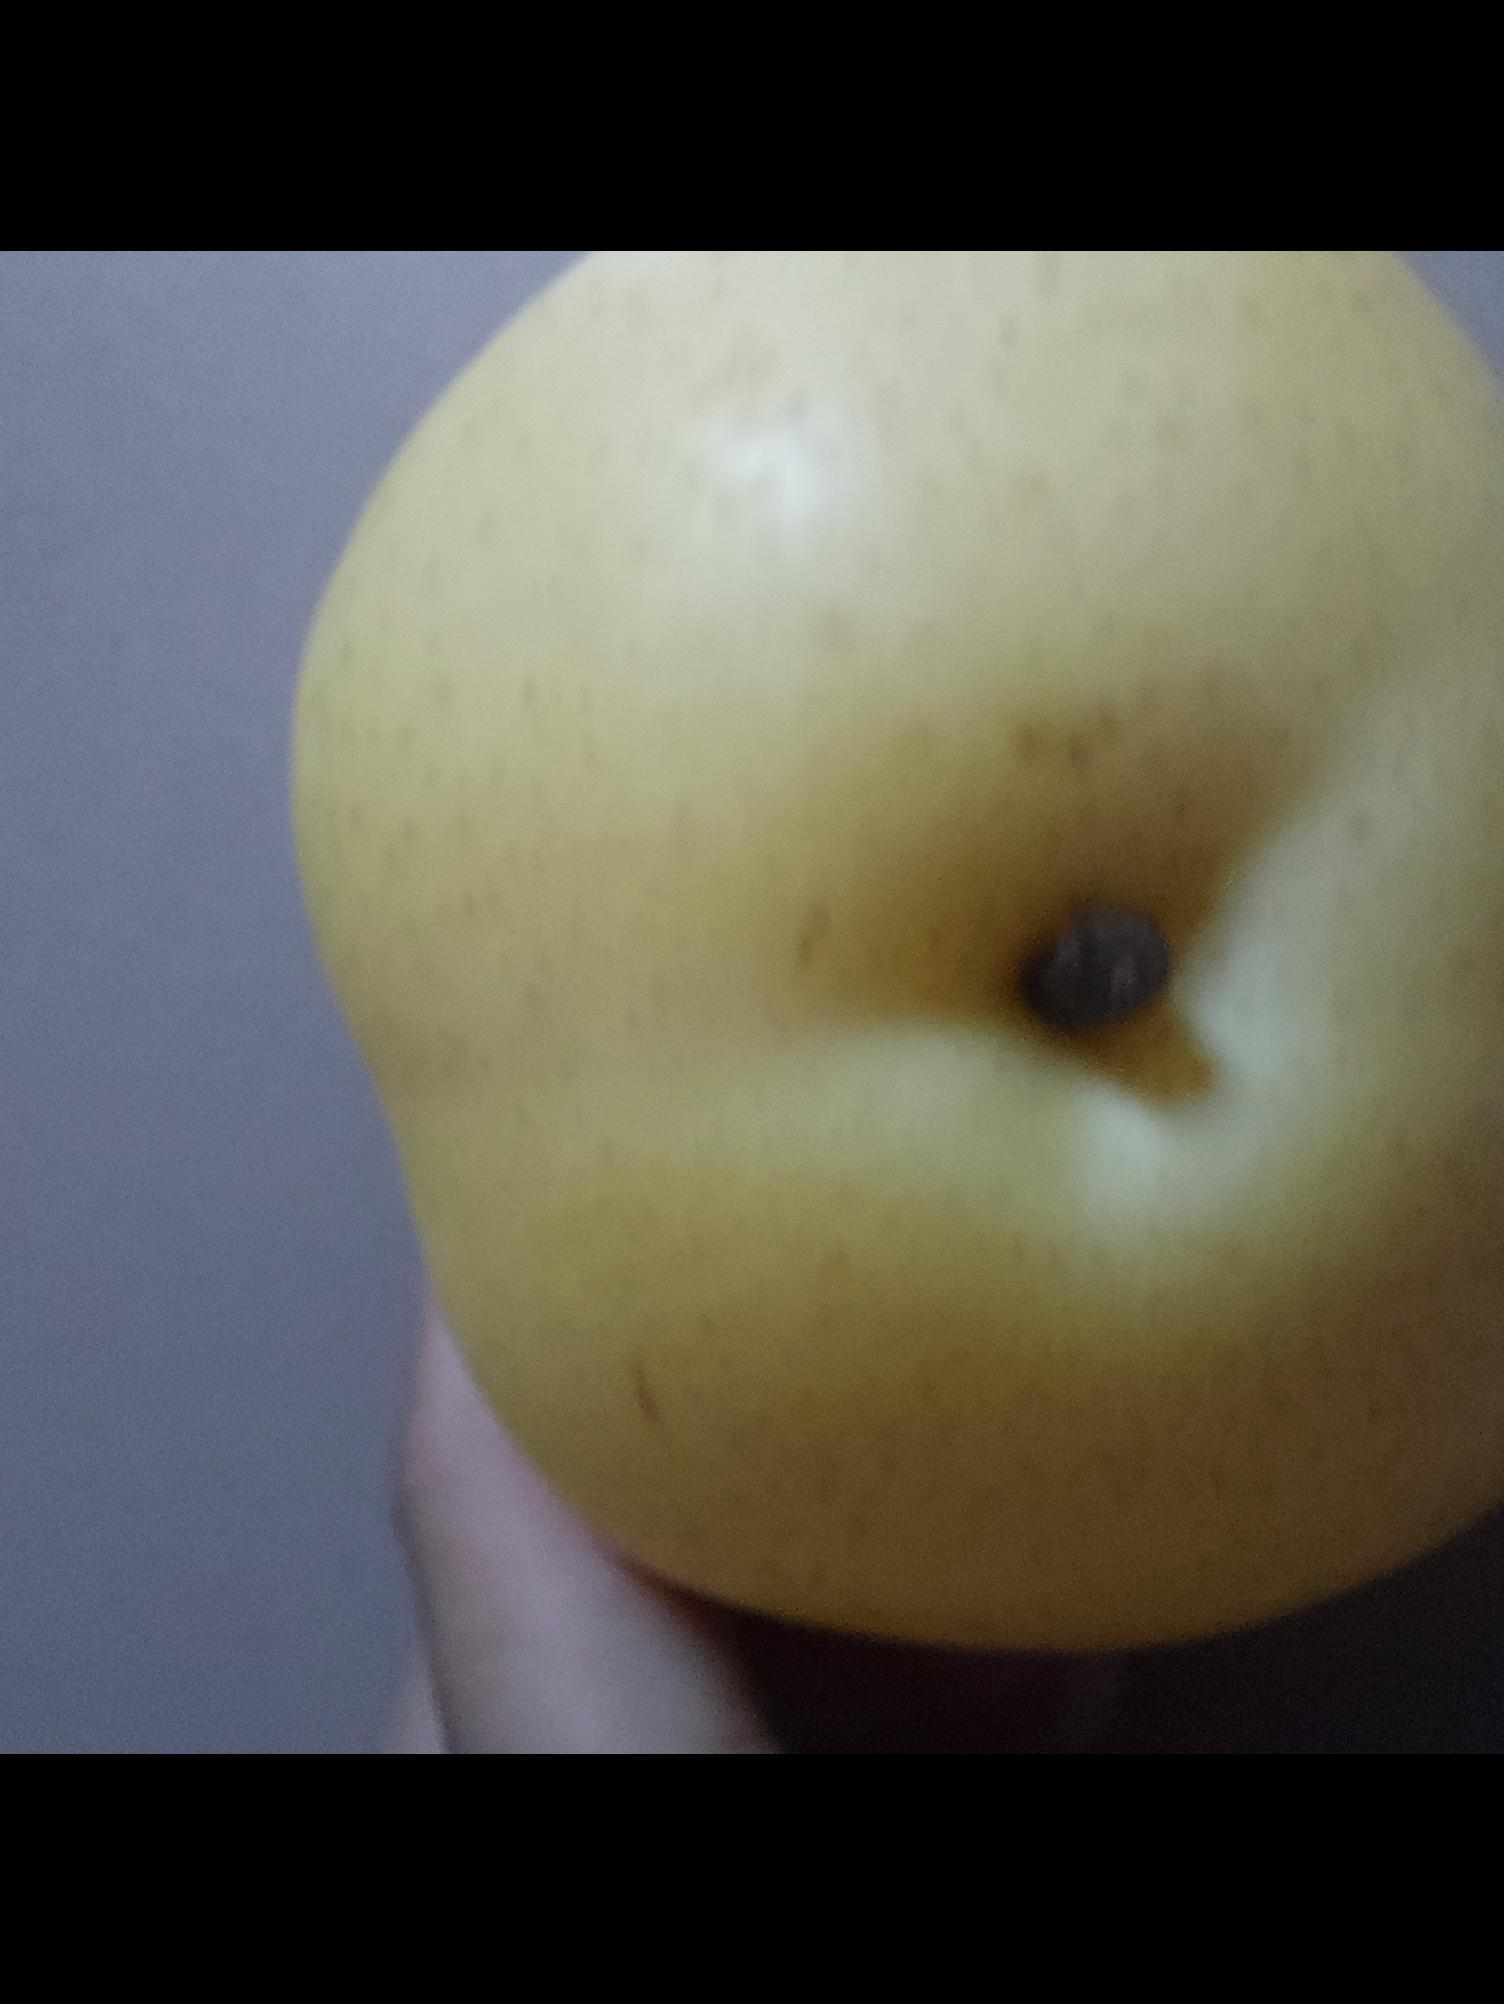Good Pear: (282, 250, 1504, 1643)
